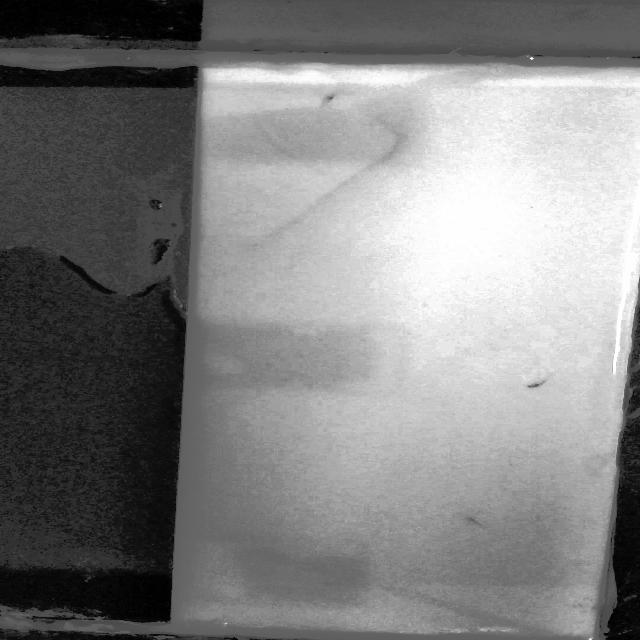shrimp: (519, 374, 556, 390), (462, 515, 493, 529), (318, 89, 342, 105)
